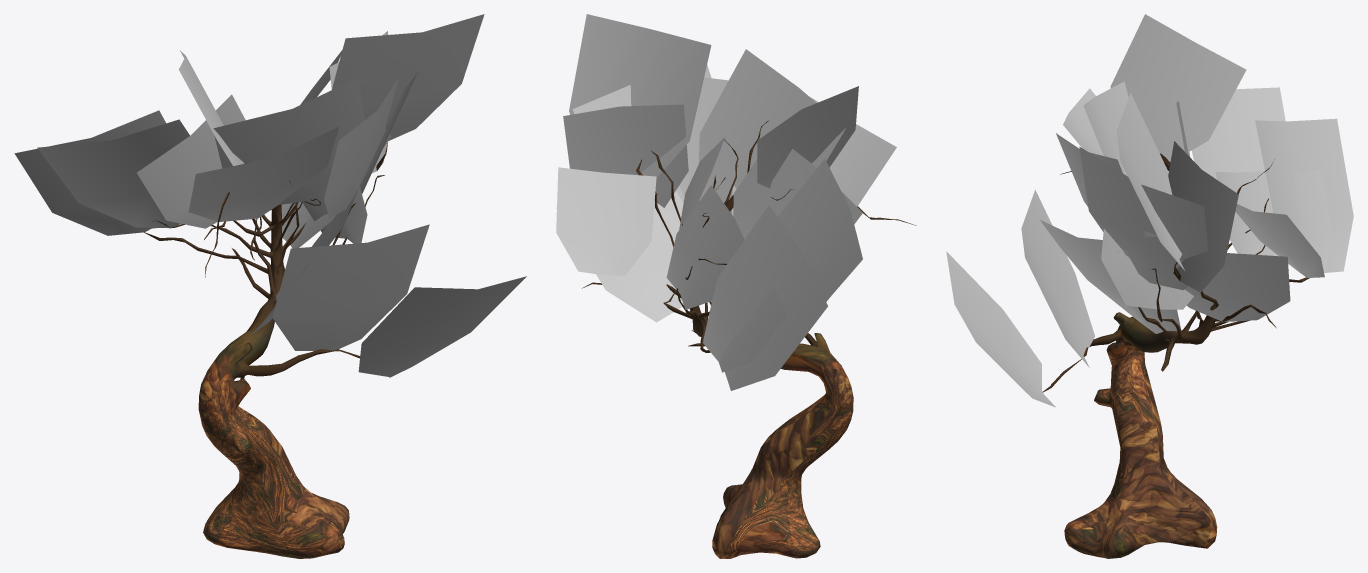
The model's file is oakB.fbx.
3 views of the same model, side by side, from view 1: azimuth 30°, elevation 25°; view 2: azimuth 150°, elevation 25°; view 3: azimuth 270°, elevation 25° (orthographic). The views are drawn at different scales.
Parts seen in each view (by area): view 1: oakB1:Group26227, leaf78, leaf79, leaf80, leaf77, leaf81, leaf82, leaf91, leaf84, leaf90, leaf94, leaf93 (+3 smaller); view 2: oakB1:Group26227, leaf84, leaf79, leaf87, leaf81, leaf92, leaf80, leaf85, leaf93, leaf89, leaf91, leaf82 (+4 smaller); view 3: oakB1:Group26227, leaf93, leaf83, leaf84, leaf77, leaf78, leaf89, leaf92, leaf80, leaf79, leaf88, leaf94 (+6 smaller).
Part boxes in pixels (<box>): oakB1:Group26227: <box>144,142,389,558</box>; leaf78: <box>272,224,429,351</box>; leaf79: <box>332,14,484,140</box>; leaf80: <box>37,119,189,228</box>; leaf77: <box>358,276,526,377</box>; leaf81: <box>213,78,364,204</box>; leaf82: <box>188,127,338,221</box>; leaf91: <box>137,94,245,228</box>; leaf84: <box>14,110,166,235</box>; leaf90: <box>324,78,398,217</box>; leaf94: <box>302,174,367,243</box>; leaf93: <box>178,50,244,165</box>; oakB1:Group26227: <box>582,120,916,558</box>; leaf84: <box>703,205,827,390</box>; leaf79: <box>569,14,711,177</box>; leaf87: <box>556,167,656,275</box>; leaf81: <box>698,49,845,213</box>; leaf92: <box>563,104,688,207</box>; leaf80: <box>777,159,862,301</box>; leaf85: <box>666,185,744,309</box>; leaf93: <box>757,86,858,188</box>; leaf89: <box>556,190,683,322</box>; leaf91: <box>733,149,862,239</box>; leaf82: <box>732,96,896,215</box>; oakB1:Group26227: <box>1042,153,1317,558</box>; leaf93: <box>1110,14,1246,161</box>; leaf83: <box>1079,146,1207,289</box>; leaf84: <box>1255,118,1353,272</box>; leaf77: <box>946,251,1055,407</box>; leaf78: <box>1021,189,1094,367</box>; leaf89: <box>1144,231,1290,321</box>; leaf92: <box>1168,141,1238,292</box>; leaf80: <box>1191,87,1285,179</box>; leaf79: <box>1116,93,1184,270</box>; leaf88: <box>1040,220,1181,333</box>; leaf94: <box>1101,229,1193,309</box>.
Size of the model in its own units: 778 by 998 by 765.
